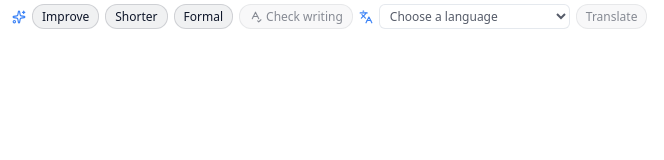
Test: ComposeQuickActions › renders an inline refusal message when the backend refuses (never crashes)
Click the button with test id "compose-quick-action-improve": (66, 16) [32,4,99,29]
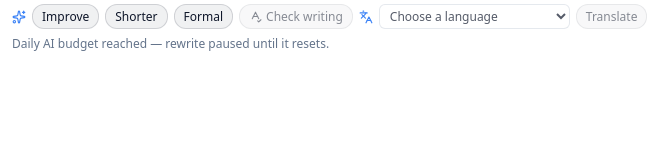
Expected: the text with test id "compose-quick-actions-refusal" reads "Daily AI budget reached — rewrite paused until it resets.", [12,35,329,52]
